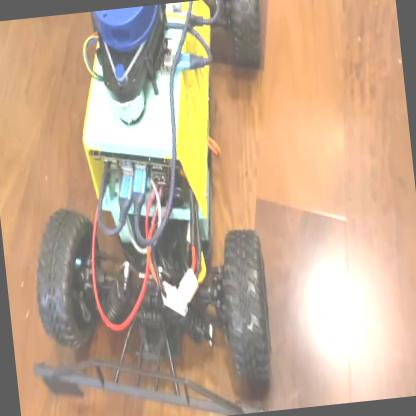mushr_car: (0, 0, 310, 415)
